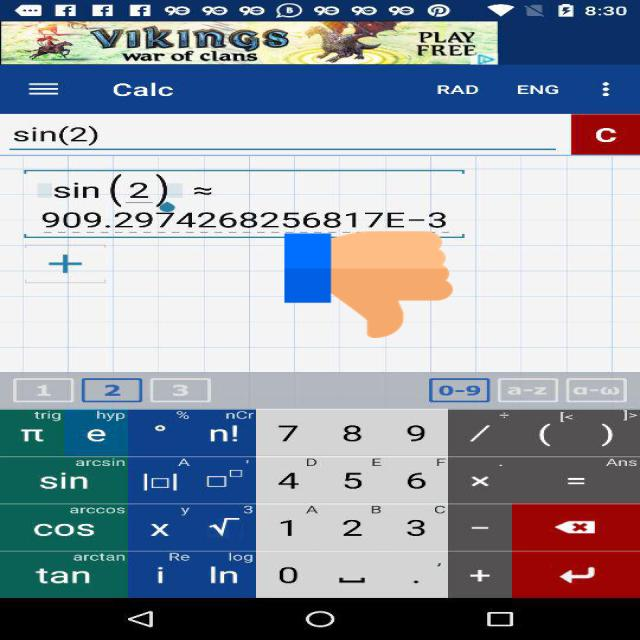obstruction: (284, 228, 453, 340)
